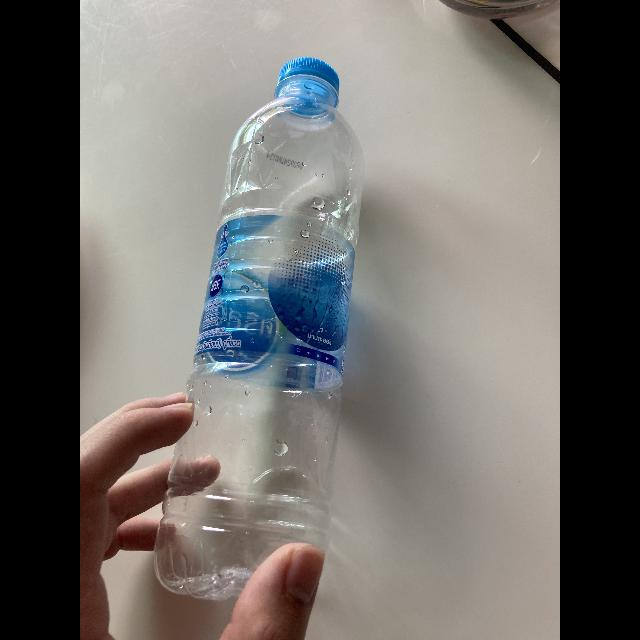plastic_bottle: (151, 53, 371, 621)
plastic_bottle_cap: (274, 54, 340, 124)
